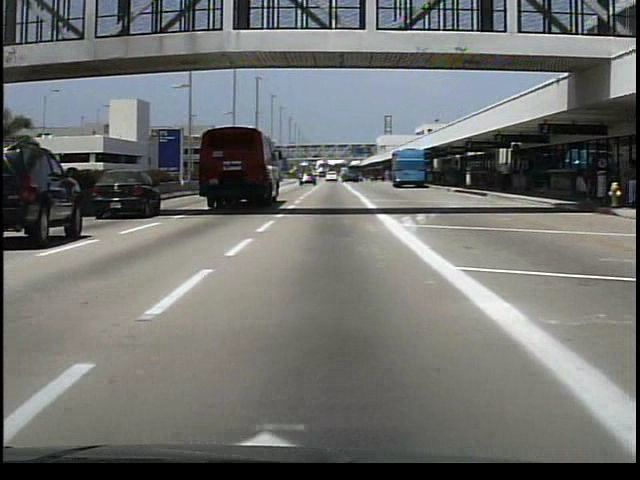person: (503, 161, 517, 192)
